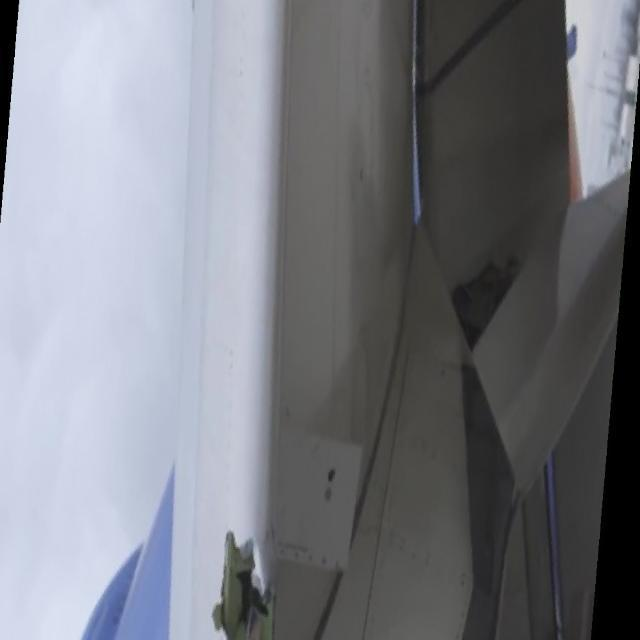crack: (210, 531, 274, 638)
